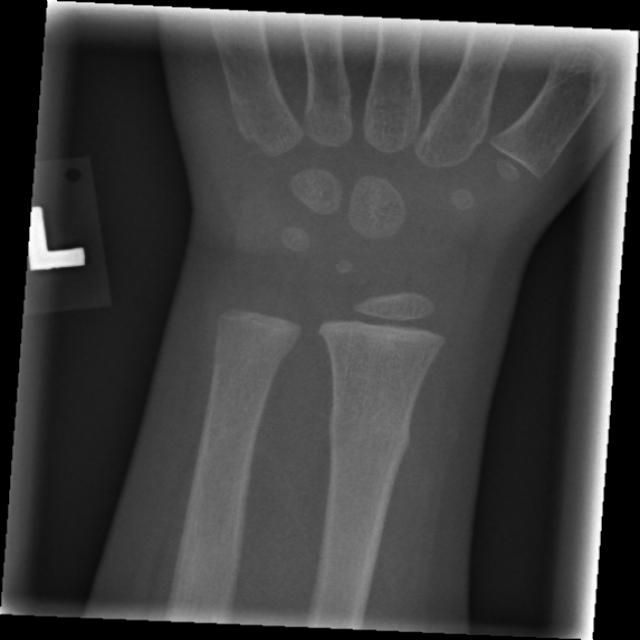radius fracture: (302, 374, 439, 502)
